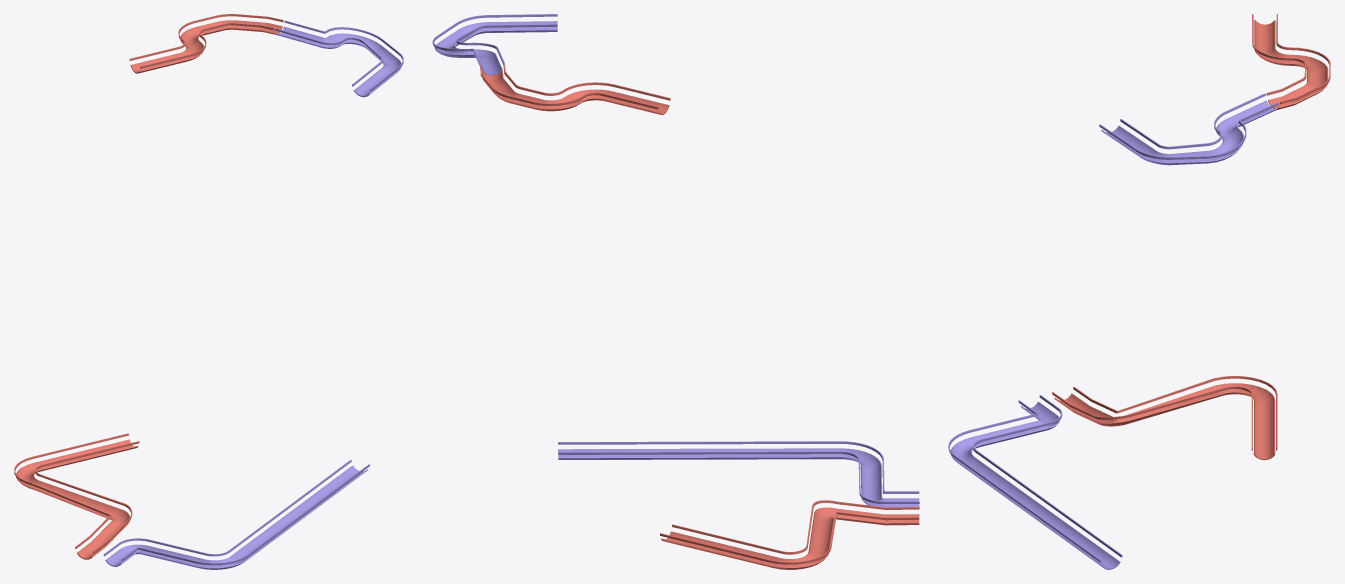
The model's file is scen_III_spir_wejscia+lacznik.fbx.
3 renders of one model, left to right at view 1: azimuth 30°, elevation 25°; view 2: azimuth 150°, elevation 25°; view 3: azimuth 270°, elevation 25°, orthographic. The views are drawn at different scales.
Visible parts, largest first — view 1: wejście zejście; view 2: wejście zejście; view 3: wejście zejście.
Part boxes in pixels (x1,y1,x2,y2): wejście zejście: (14,14,403,569); wejście zejście: (432,14,919,569); wejście zejście: (948,14,1330,569).
Size of the model in its own units: 3036 by 3173 by 2363.
